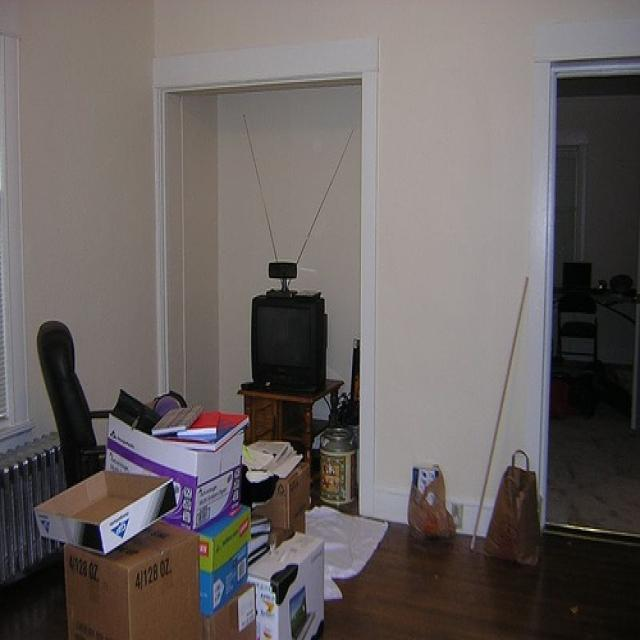chair: (33, 317, 115, 483), (557, 292, 599, 377)
tvmonitor: (250, 288, 328, 394)
